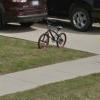Bicycle: (32, 16, 75, 60)
